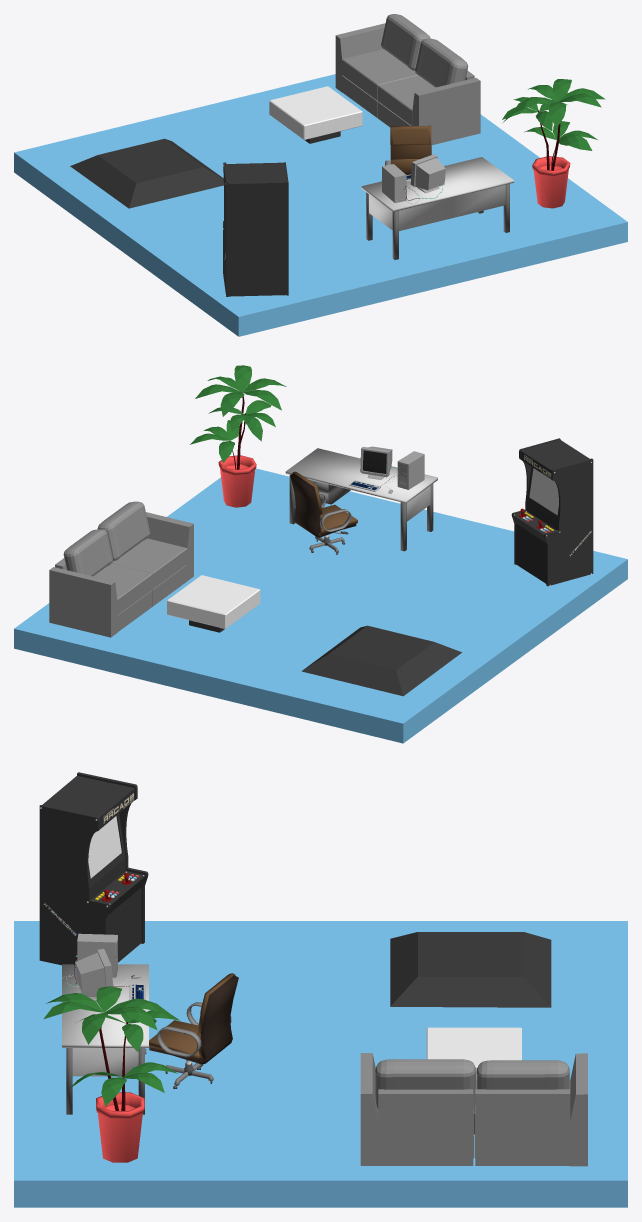
File: office.glb
3 views of the same model, one above another, from view 1: azimuth 30°, elevation 25°; view 2: azimuth 150°, elevation 25°; view 3: azimuth 270°, elevation 25° (orthographic). The views are drawn at different scales.
Parts seen in each view (by area): view 1: Plane, Couch, Arcade_Cabinet, Cube.016, Cube, Cube.002, retro_computer_setup, Cube.021, leaf.004, pot, leaf.003, leaf.014; view 2: Plane, Couch, Arcade_Cabinet, Cube, Cube.016, Cube.002, Cube.021, leaf.004, retro_computer_setup, pot, leaf.014, ArcadeScreen (+1 smaller); view 3: Plane, Couch, Arcade_Cabinet, Cube, Cube.016, Cube.021, Cube.002, retro_computer_setup, pot, leaf.004, leaf.003, ArcadeScreen (+1 smaller).
Part boxes in pixels (bbox=[...]): Plane: bbox=[14, 74, 627, 336]; Couch: bbox=[335, 14, 480, 145]; Arcade_Cabinet: bbox=[223, 162, 288, 296]; Cube.016: bbox=[361, 157, 513, 259]; Cube: bbox=[70, 138, 223, 208]; Cube.002: bbox=[269, 86, 362, 143]; retro_computer_setup: bbox=[382, 154, 445, 204]; Cube.021: bbox=[385, 125, 431, 174]; leaf.004: bbox=[511, 79, 605, 127]; pot: bbox=[532, 156, 570, 208]; leaf.003: bbox=[524, 121, 597, 150]; leaf.014: bbox=[502, 97, 567, 131]; Plane: bbox=[14, 468, 627, 743]; Couch: bbox=[49, 501, 193, 637]; Arcade_Cabinet: bbox=[511, 438, 593, 586]; Cube: bbox=[301, 625, 461, 696]; Cube.016: bbox=[285, 448, 437, 551]; Cube.002: bbox=[167, 575, 260, 632]; Cube.021: bbox=[290, 471, 357, 554]; leaf.004: bbox=[195, 365, 286, 416]; retro_computer_setup: bbox=[349, 446, 424, 493]; pot: bbox=[218, 455, 256, 507]; leaf.014: bbox=[208, 400, 275, 441]; ArcadeScreen: bbox=[529, 468, 558, 514]; Plane: bbox=[14, 921, 627, 1207]; Couch: bbox=[360, 1053, 587, 1166]; Arcade_Cabinet: bbox=[39, 772, 148, 965]; Cube: bbox=[390, 932, 551, 1007]; Cube.016: bbox=[62, 964, 148, 1114]; Cube.021: bbox=[149, 973, 238, 1088]; Cube.002: bbox=[426, 1027, 521, 1079]; retro_computer_setup: bbox=[62, 933, 145, 1001]; pot: bbox=[96, 1092, 144, 1162]; leaf.004: bbox=[43, 986, 172, 1044]; leaf.003: bbox=[70, 1062, 177, 1106]; ArcadeScreen: bbox=[88, 816, 121, 878].
Bounding box in the file's own units: 23.49 × 7.81 × 23.21.
11 materials, 1 textured.
